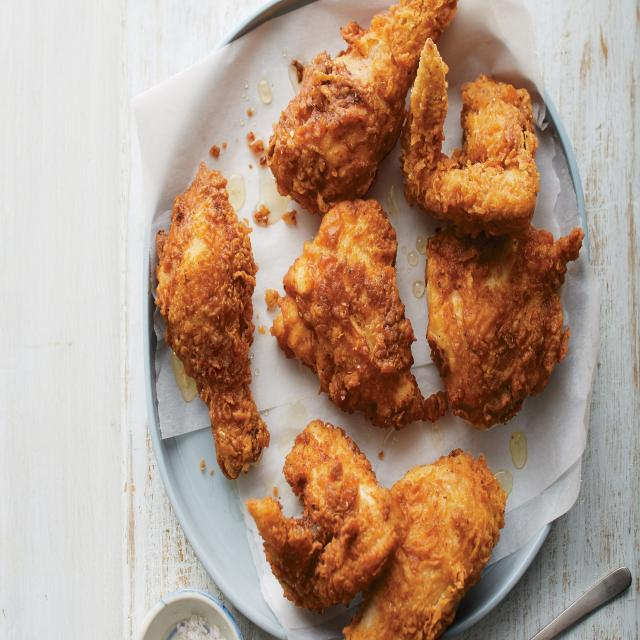Frango: (152, 0, 586, 640)
